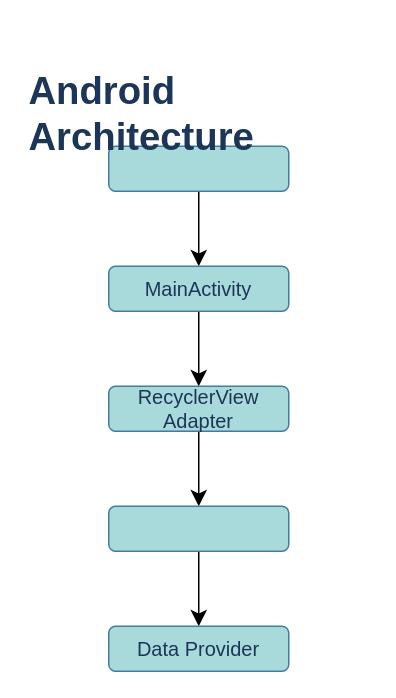
The diagram is 396 pixels wide and 698 high, and some of its shapes have lost their labels. Here are the shapes that lost their labels. From the top down, the centre of each, then its label:
At (x=198, y=168): "User".
At (x=198, y=528): "Book Data Model".
